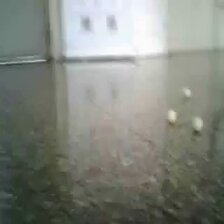tennis: (172, 197, 213, 224), (82, 106, 105, 135), (2, 83, 20, 108), (122, 72, 137, 93)
